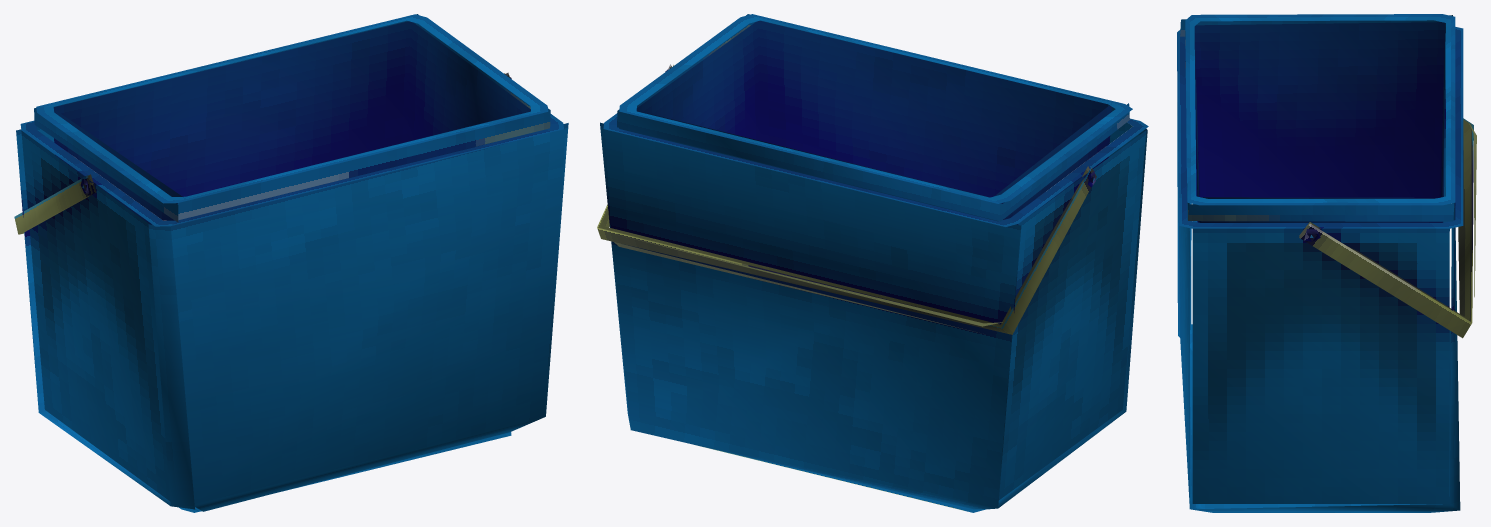
Rendered from ice_box.glb.
The picture shows the model from 3 angles, left to right: view 1: azimuth 30°, elevation 25°; view 2: azimuth 150°, elevation 25°; view 3: azimuth 270°, elevation 25°; orthographic projection.
Parts seen in each view (by area): view 1: IceBox.001; view 2: IceBox.001; view 3: IceBox.001.
Part boxes in pixels (left/top/right/bottom): IceBox.001: left=14, top=14, right=568, bottom=512; IceBox.001: left=597, top=14, right=1148, bottom=512; IceBox.001: left=1177, top=14, right=1476, bottom=512.
Bounding box in the file's own units: 0.5159 × 0.3701 × 0.3119.
1 material, 1 textured.
